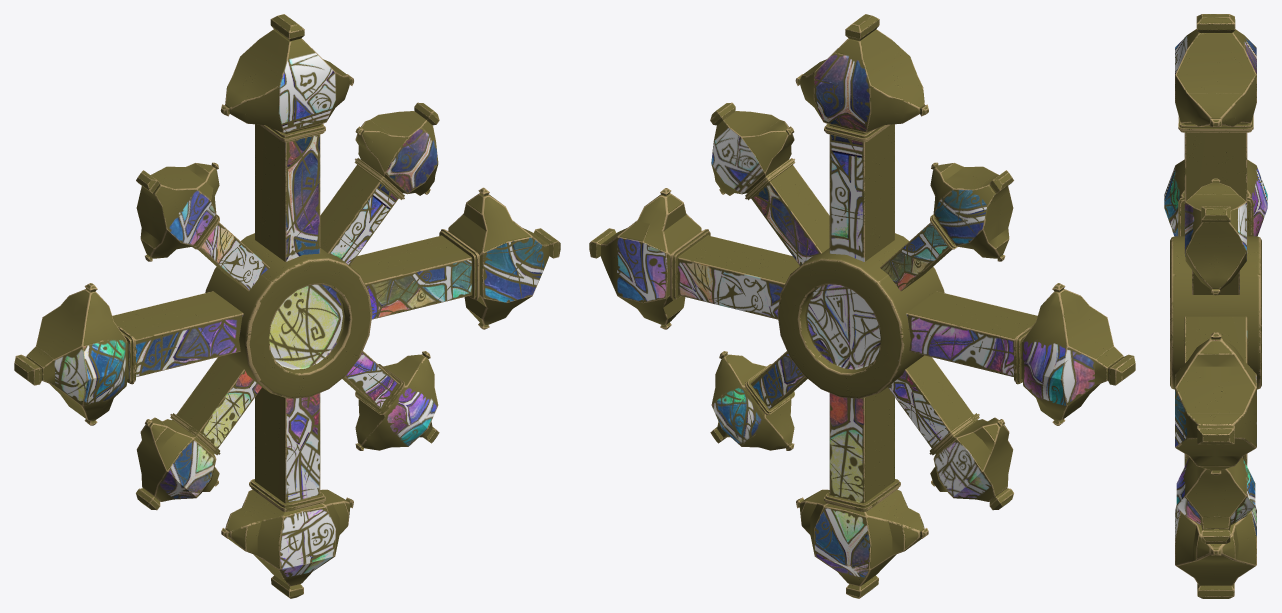
File: rotatingLeverPre.glb
3 views of the same model, side by side, from view 1: azimuth 30°, elevation 25°; view 2: azimuth 150°, elevation 25°; view 3: azimuth 270°, elevation 25° (orthographic).
Visible parts, largest first — view 1: Mesh_3, Mesh_0, Mesh_2; view 2: Mesh_3, Mesh_0, Mesh_2; view 3: Mesh_3, Mesh_0, Mesh_2.
Part boxes in pixels (x1,y1,x2,y2): Mesh_3: [14, 14, 560, 598]; Mesh_0: [136, 102, 439, 510]; Mesh_2: [205, 233, 372, 398]; Mesh_3: [589, 14, 1135, 598]; Mesh_0: [710, 102, 1013, 510]; Mesh_2: [777, 233, 944, 398]; Mesh_3: [1164, 14, 1267, 598]; Mesh_0: [1176, 178, 1255, 543]; Mesh_2: [1170, 236, 1261, 389].
Bounding box in the file's own units: 0.6988 × 0.7186 × 0.116.
Materials: 1 (1 with a texture image).
